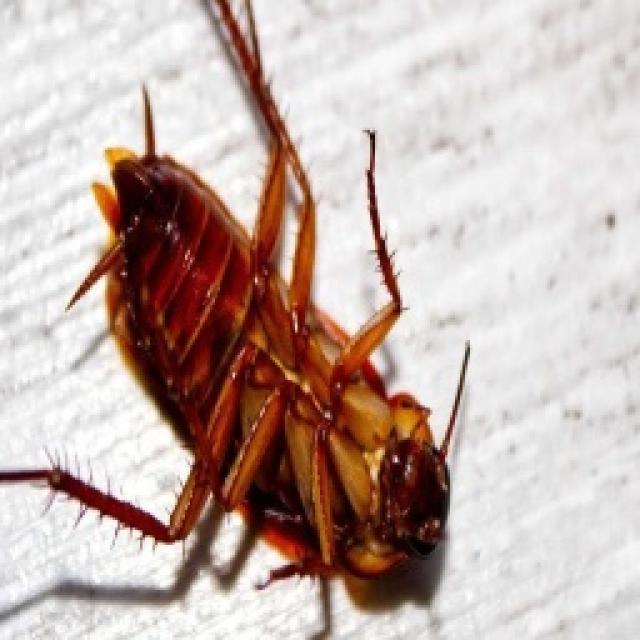cockroach: (3, 5, 478, 635)
